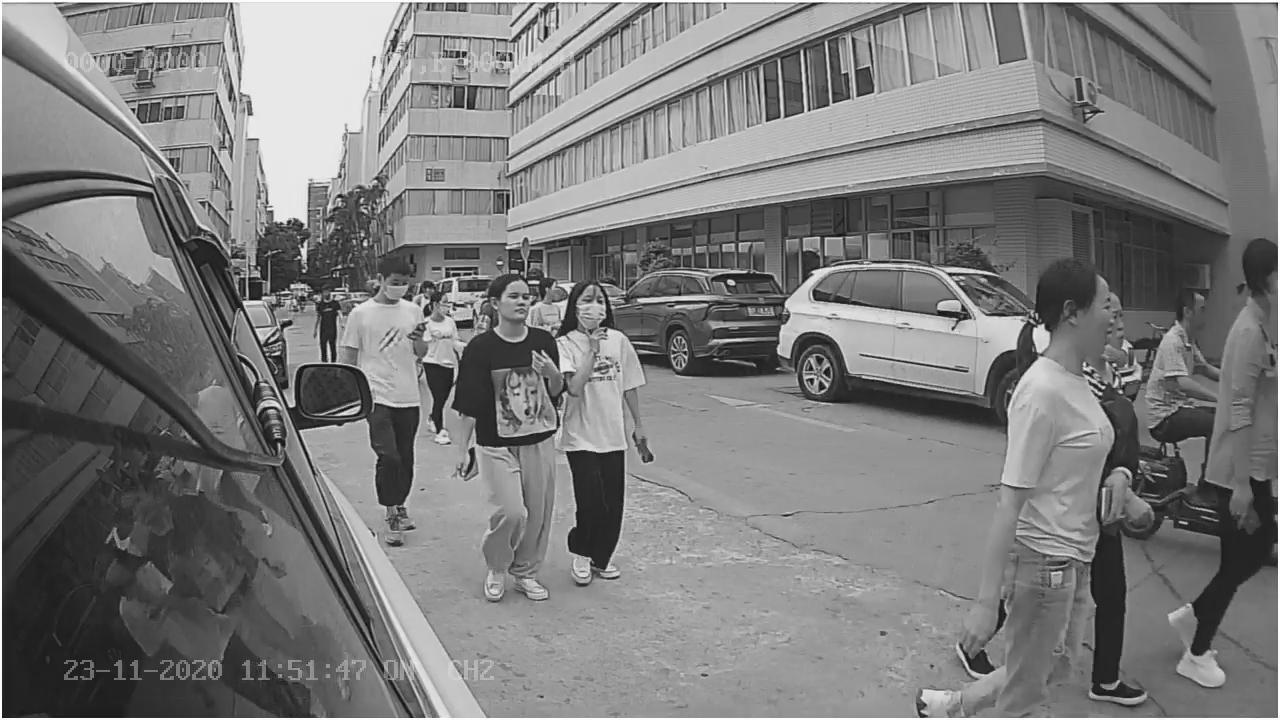person: (454, 275, 562, 607)
